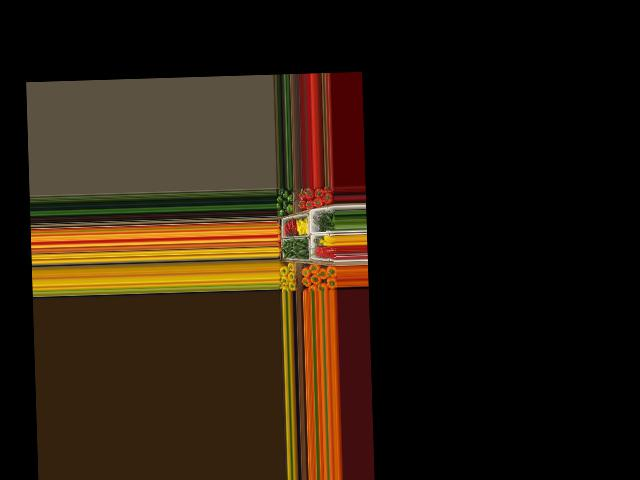bell_pepper: (284, 193, 295, 203)
